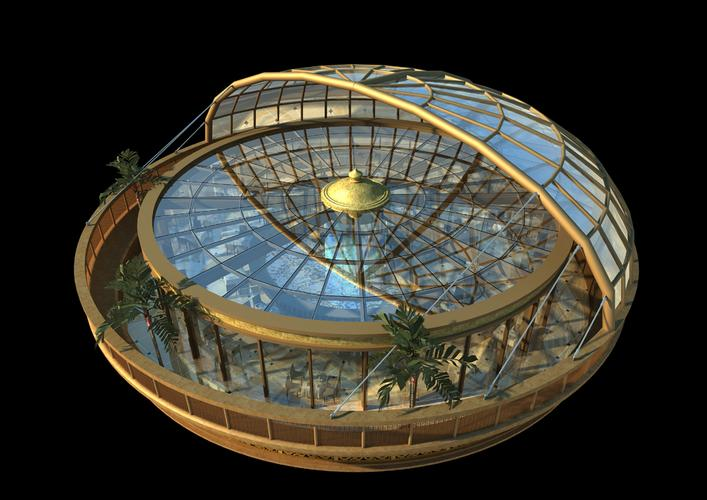buildings: (133, 86, 646, 415)
